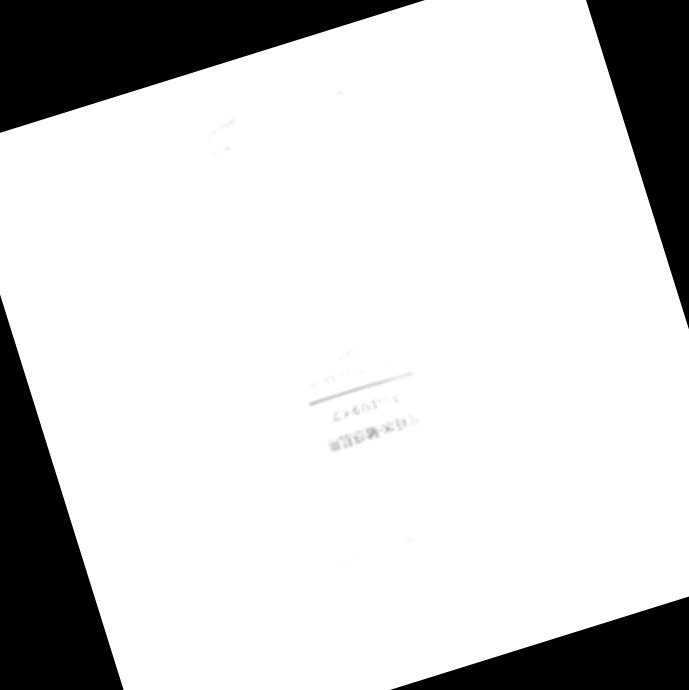cosmetic: (193, 82, 513, 641)
